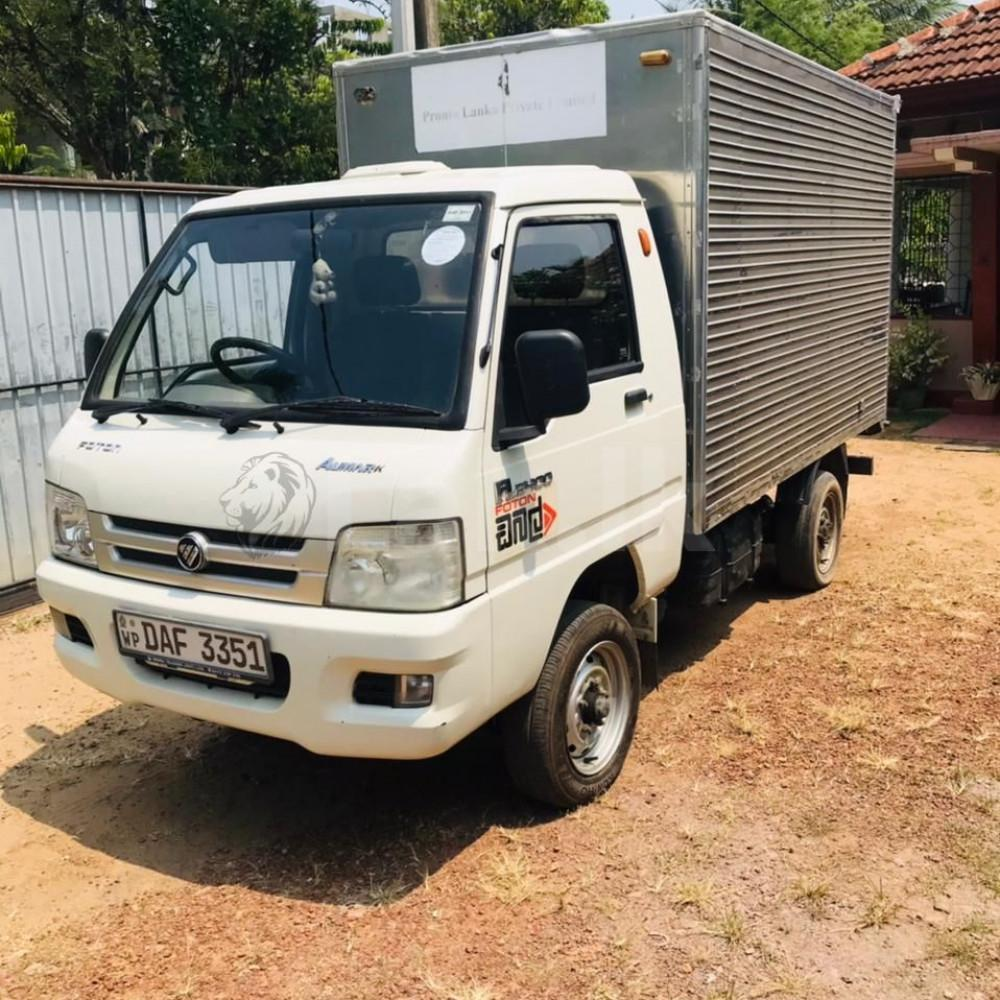truck: (35, 10, 900, 804)
